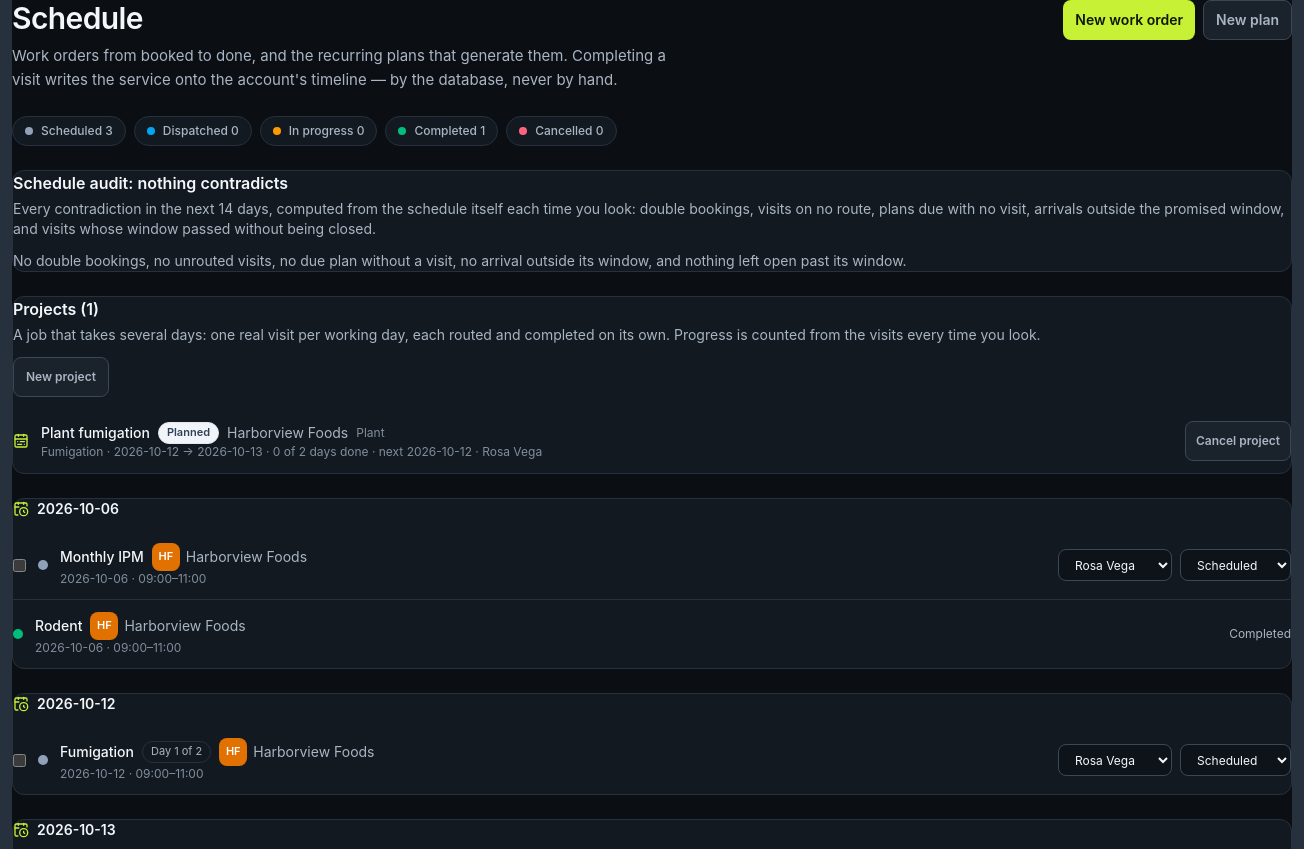
Test: bulk edit on the schedule › selects open visits only, applies one change, and lists every refusal by name
The width and height of the screenshot is (1304, 849).
Click the checkbox named "Select Monthly IPM on 2026-10-06" at [20, 565], box [13,558,26,572]
(page scrolled)
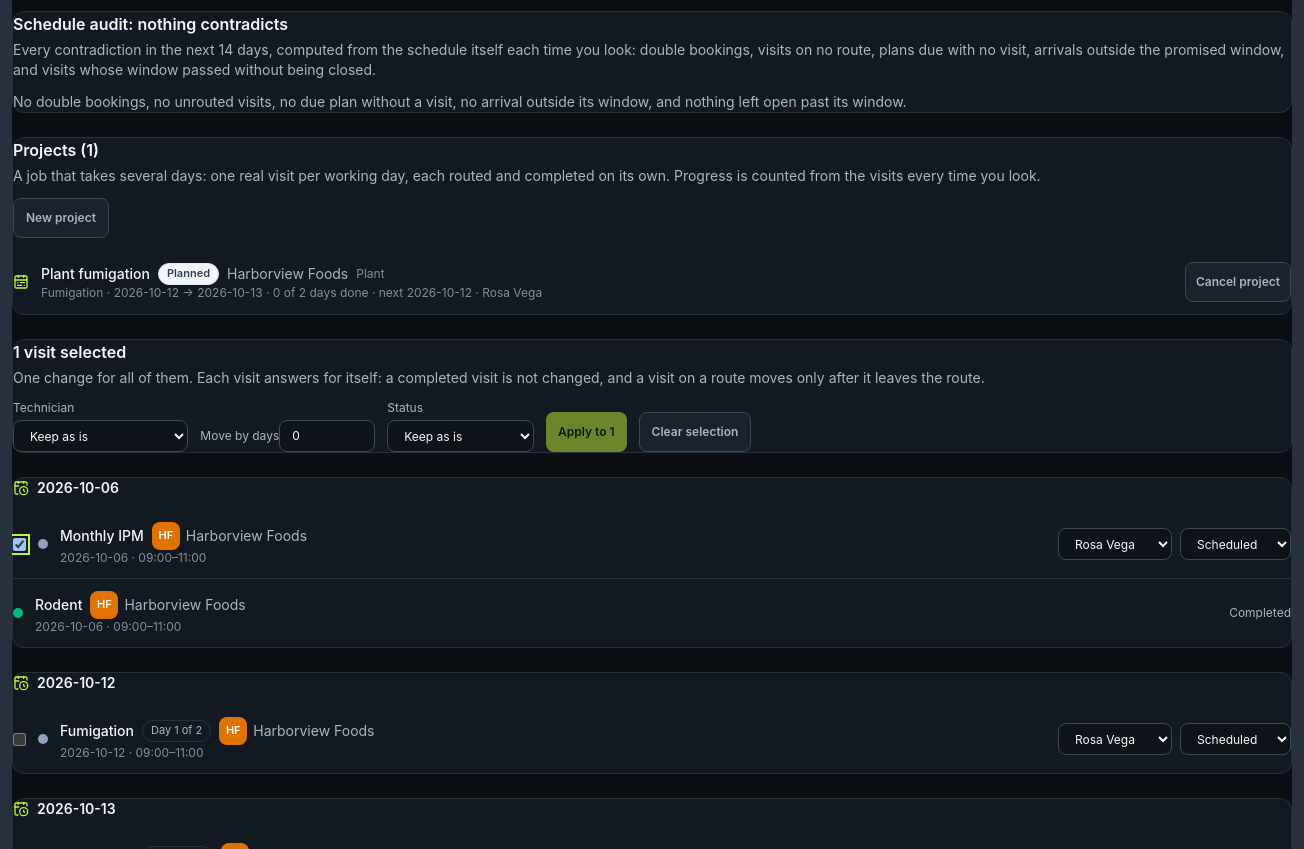
Click the checkbox named "Select Fumigation on 2026-10-12" at [20, 739], box [13,732,26,746]
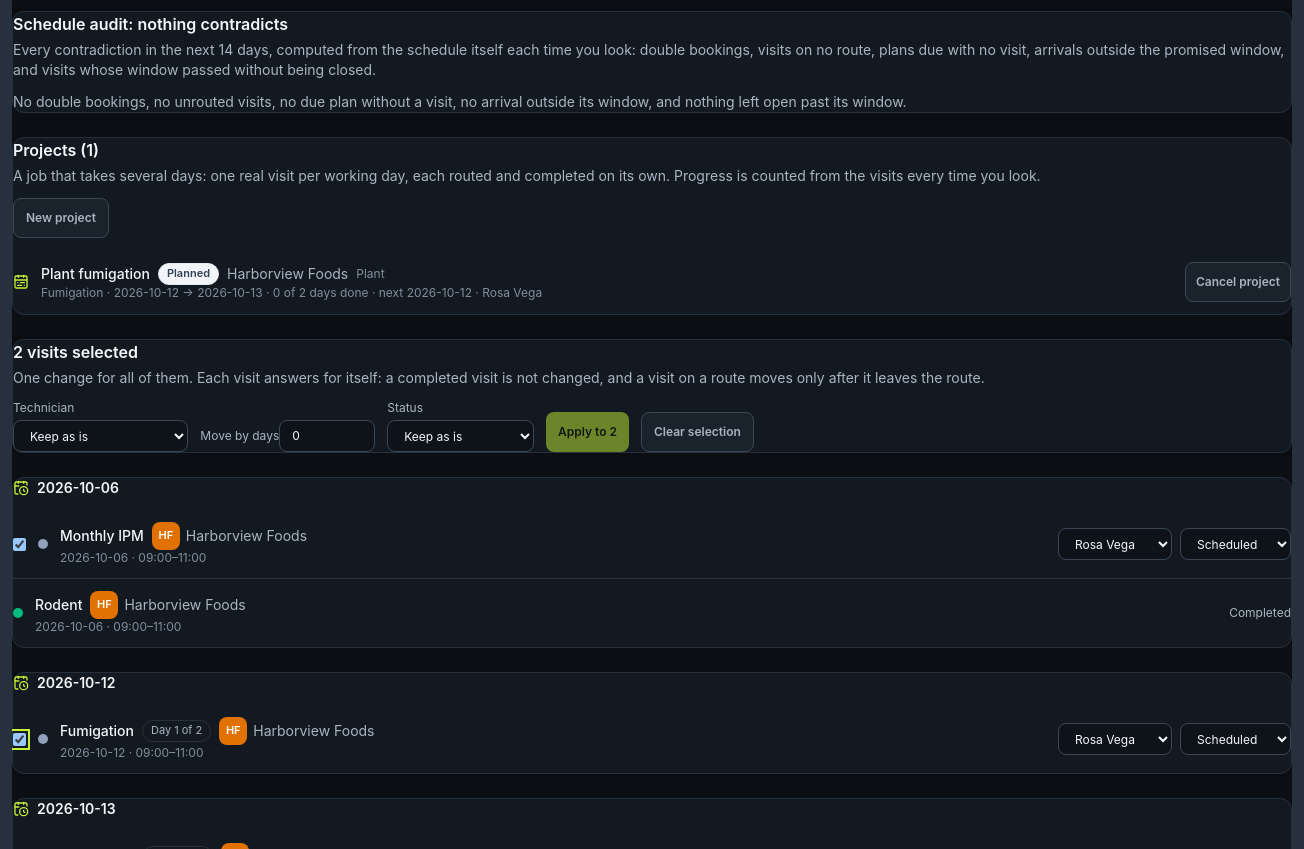
Result: the button with test id "services-bulk-apply" is disabled at [546,412,629,452]
Result: the element with test id "services-bulk-bar" shows "2 visits selected" at [13,342,138,362]
Replace the text in the number field named "Bulk move by days" with "1" at [327, 436], box [279,420,375,452]
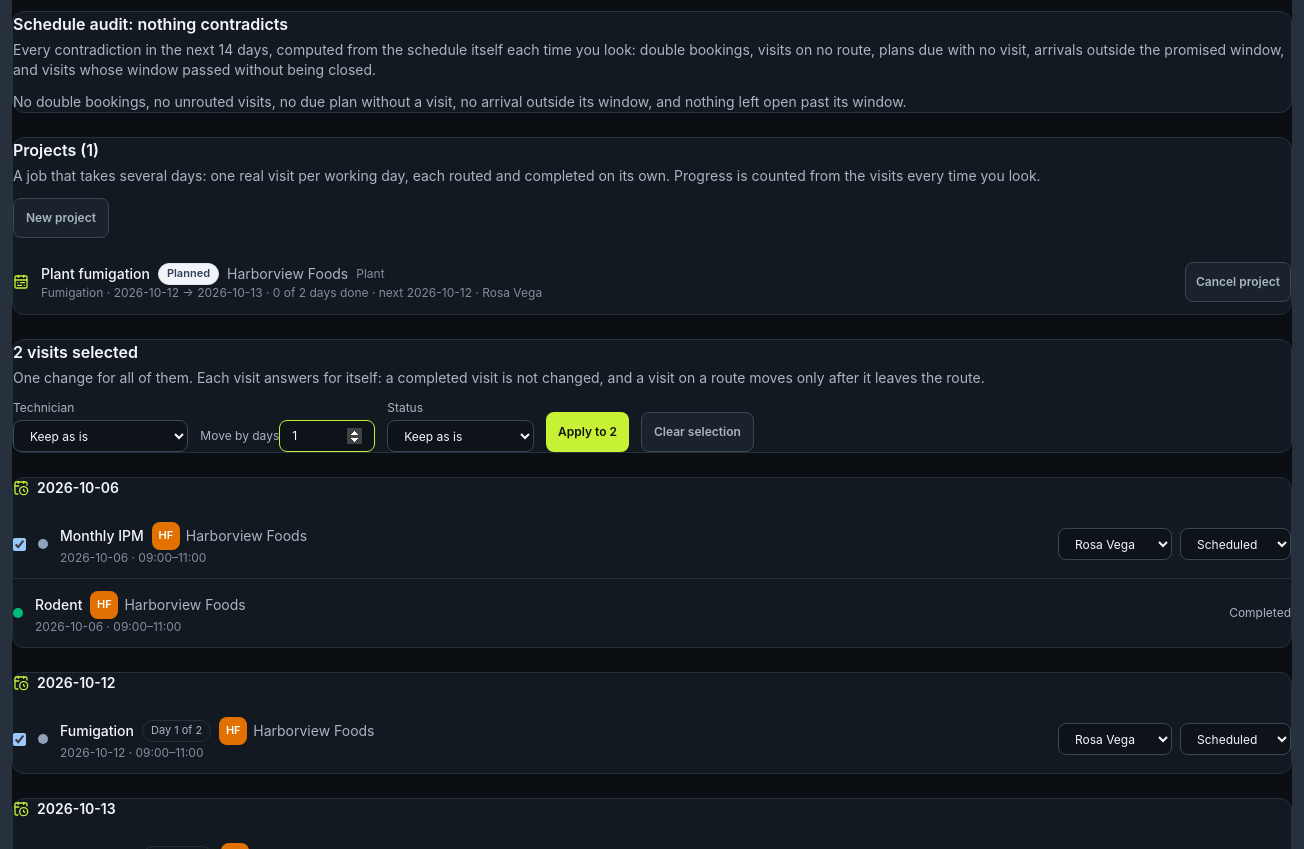
Click the button with test id "services-bulk-apply" at [588, 432], box [546,412,629,452]
(page scrolled)
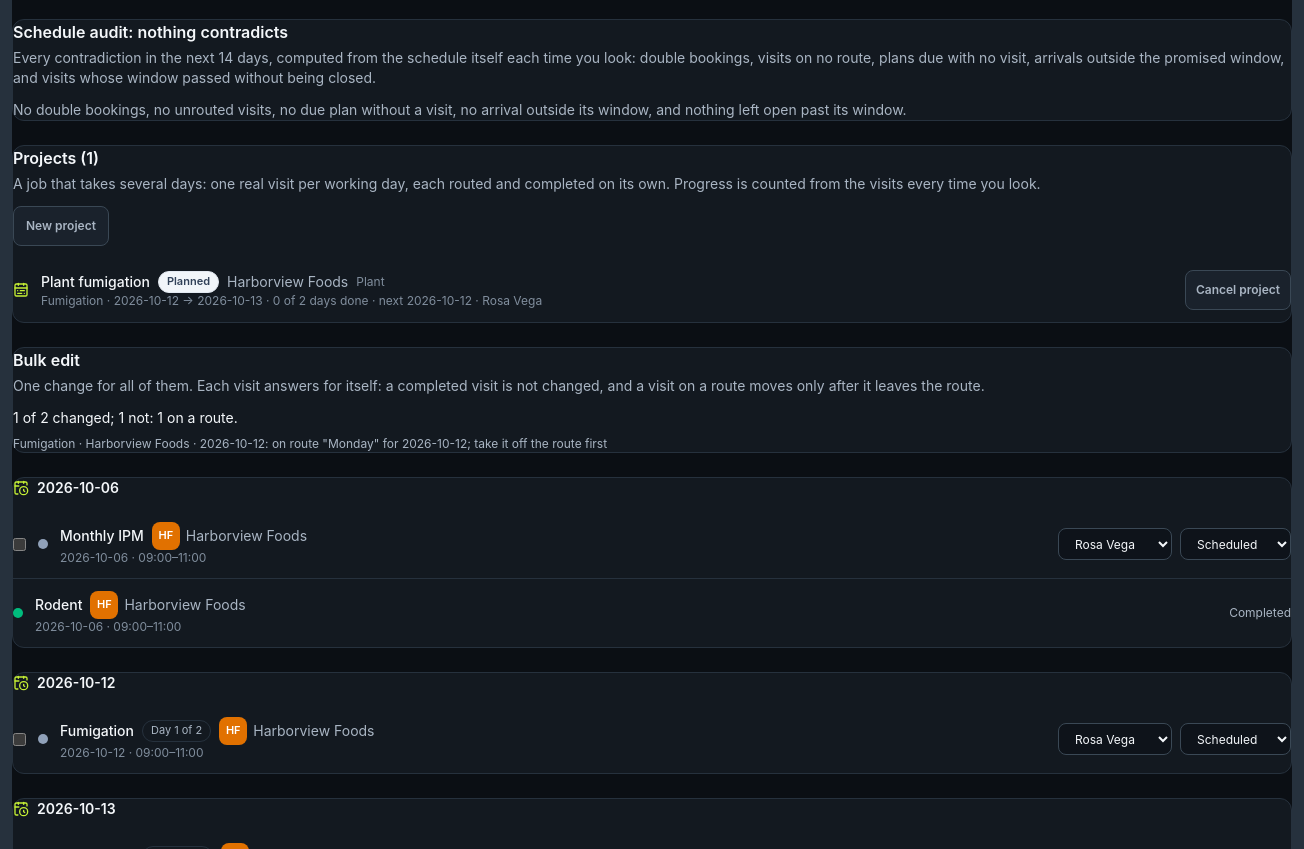
Result: the element with test id "services-bulk-result" shows "1 of 2 changed; 1 not: 1 on a route." at [13,409,238,426]
Result: the list with test id "services-bulk-refusals" shows "Fumigation · Harborview Foods · 2026-10-12: on route \"Monday\" for 2026-10-12; take it off the route first" at [13,436,607,451]
